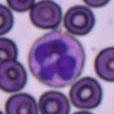N: (27, 31, 85, 87)
